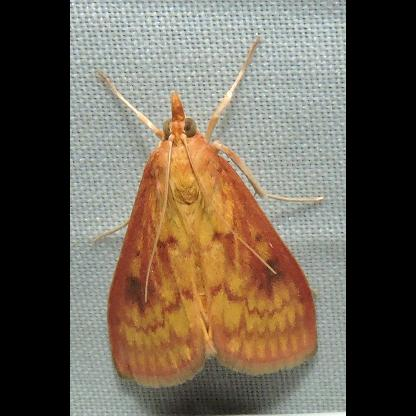Asian Corn Borer Moth: (91, 34, 329, 392)
